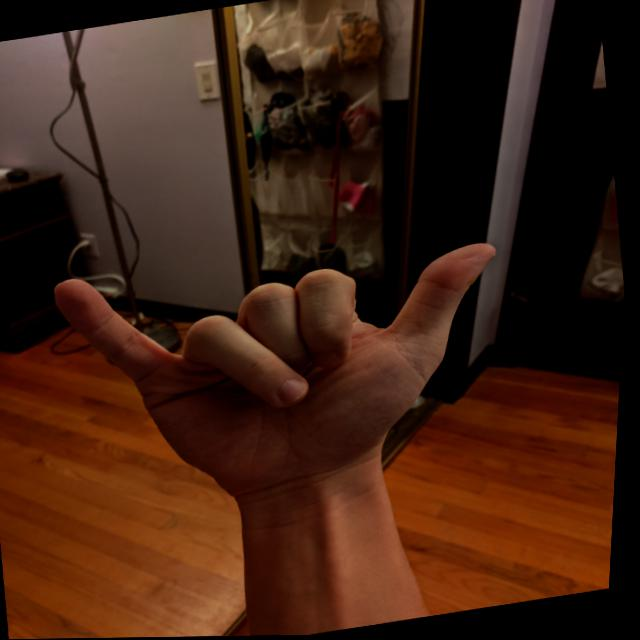Y: (41, 210, 535, 518)
